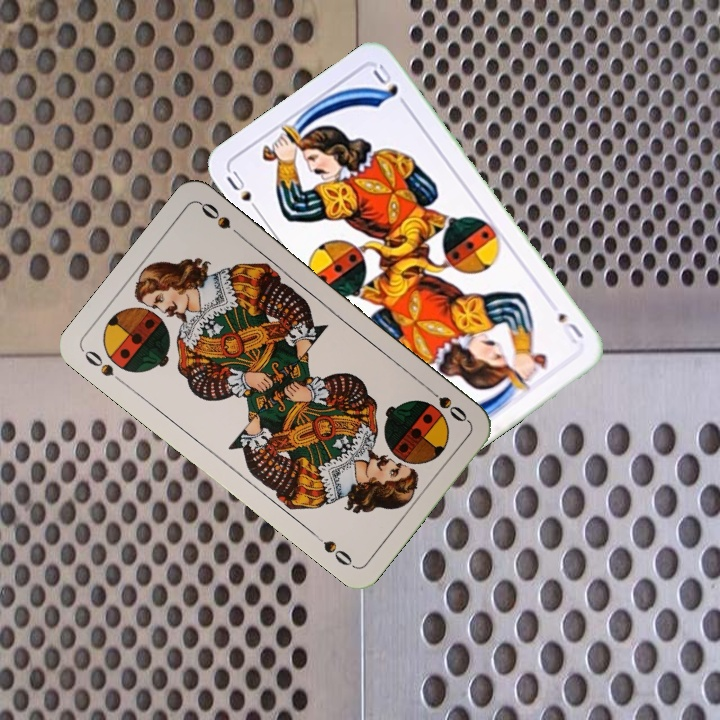SO: (421, 381, 471, 425), (80, 346, 129, 388)
SU: (222, 166, 265, 219), (554, 308, 586, 347)
